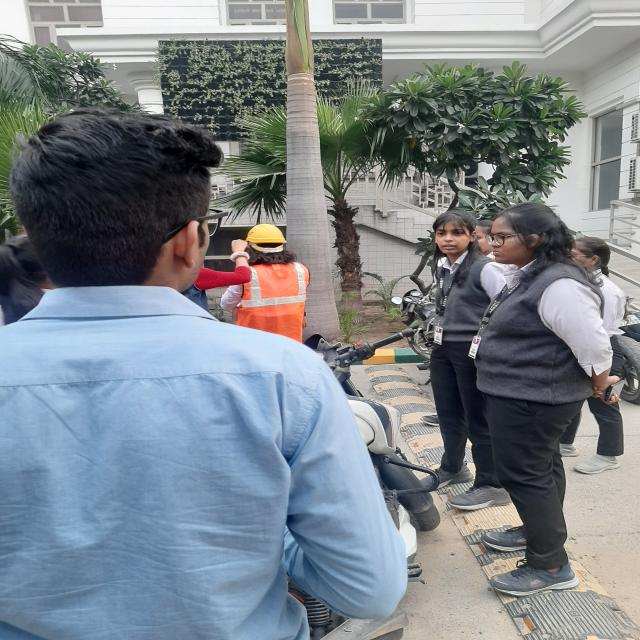safe: (235, 222, 311, 341)
unsafe: (1, 105, 406, 621), (480, 198, 604, 596), (419, 212, 490, 514)
